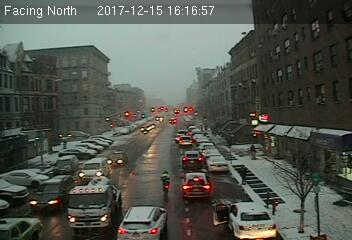bicycle: (160, 170, 171, 195)
car: (222, 201, 280, 238), (113, 205, 171, 240), (29, 174, 74, 212), (1, 214, 42, 240), (180, 172, 213, 197), (78, 157, 110, 181), (106, 151, 130, 167), (181, 151, 202, 169), (207, 156, 229, 173), (178, 135, 193, 147)
truck: (68, 181, 119, 230)
